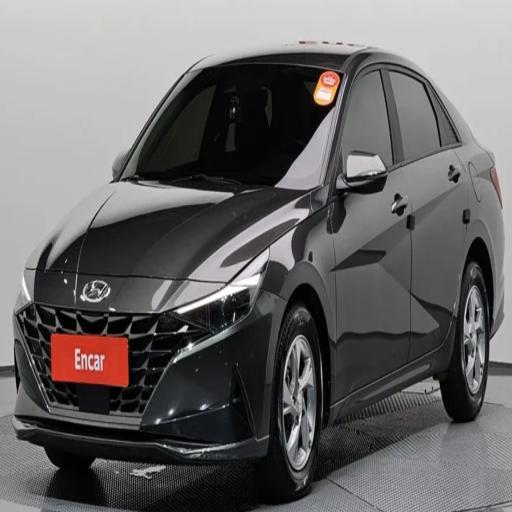normal: (16, 8, 512, 496)
